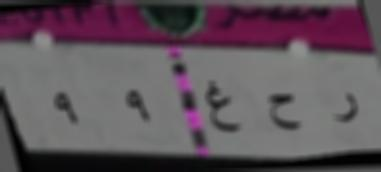7aa: (264, 84, 302, 134)
9: (122, 84, 155, 134), (50, 91, 81, 129)
ghayn: (201, 76, 243, 140)
raa: (326, 86, 361, 129)
